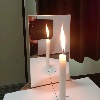fire: (60, 24, 66, 56)
